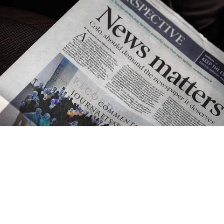news_paper: (0, 0, 224, 128)
